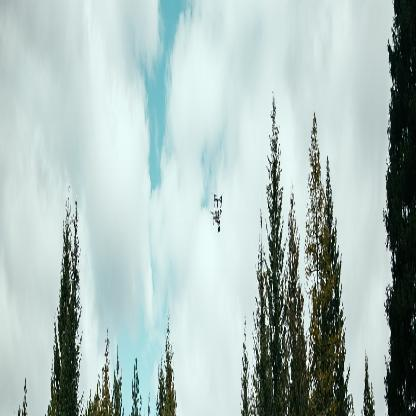drone: (209, 188, 224, 232)
